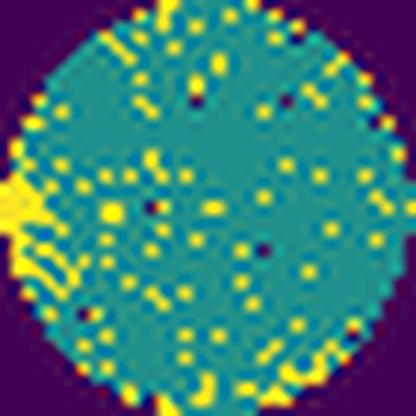Edge-Loc: (0, 130, 98, 309), (232, 328, 374, 410)
